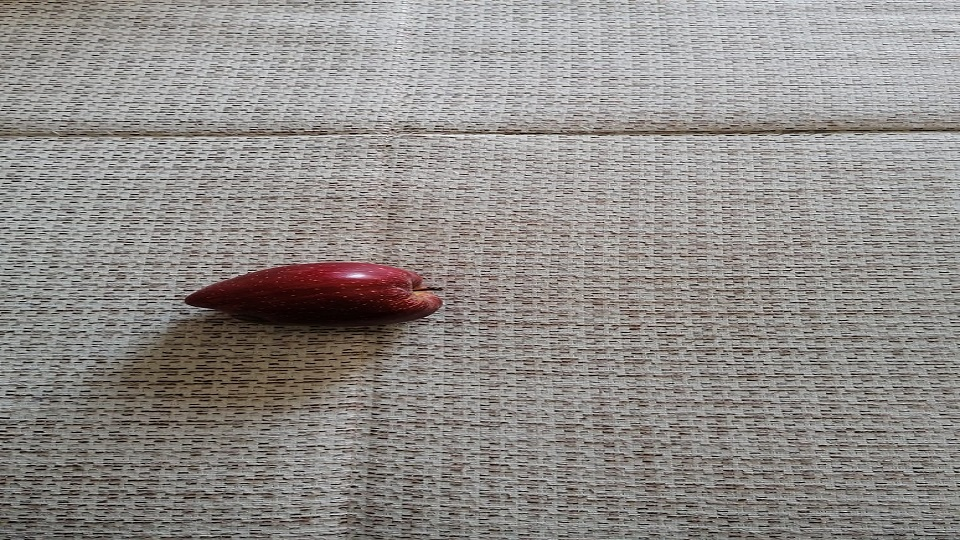elma: (182, 260, 446, 329)
